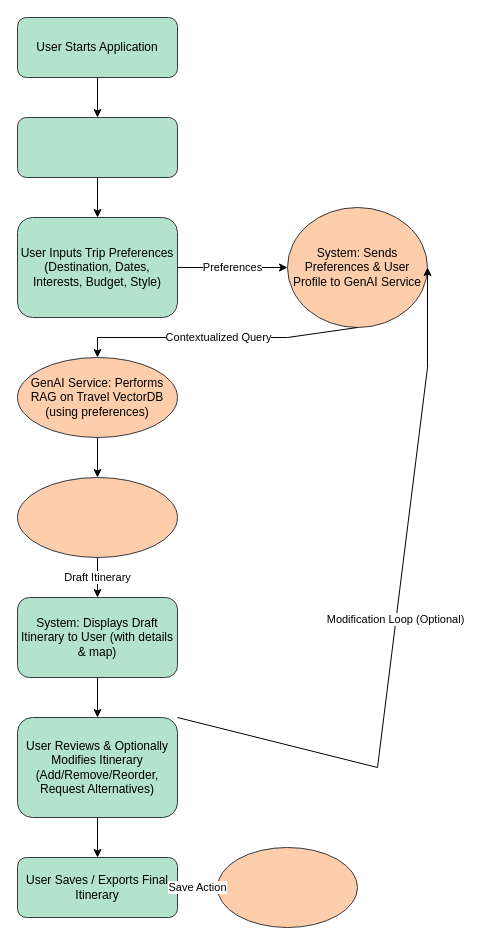
This 482x945 diagram has some shape labels left out. The centre of each missing label's shape, as x and y in pixels:
GenAI Service: Generates Draft Itinerary: [97,517]
System: Stores Final Itinerary (DB): [287,887]
User Logs In / Registers: [97,147]
